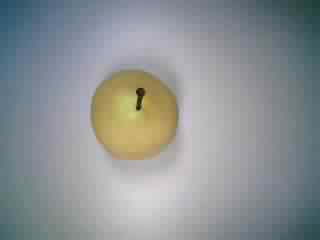pear: (80, 57, 188, 169)
